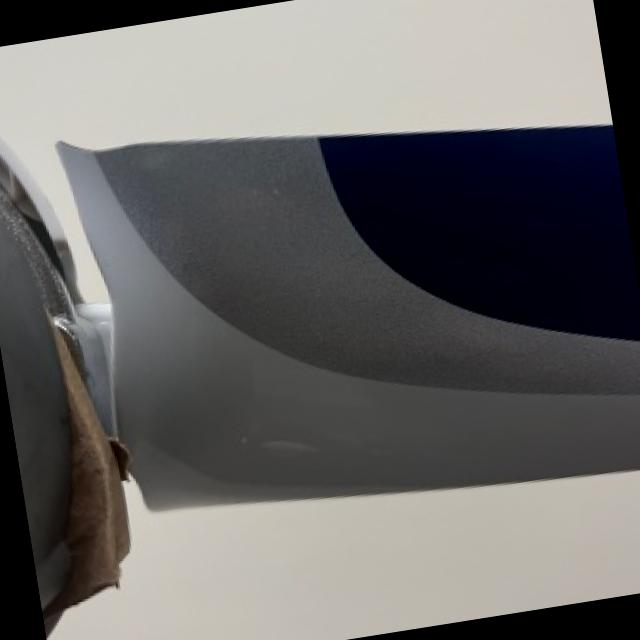healthy: (0, 0, 612, 296), (49, 469, 640, 640)
